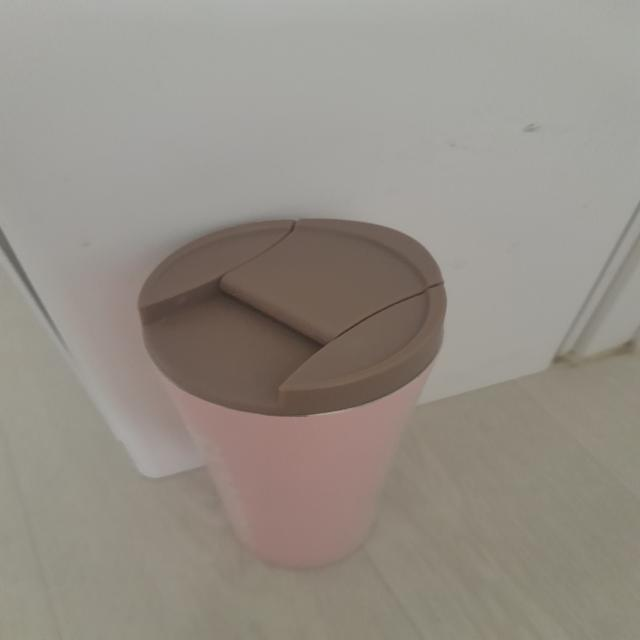waterbottle: (137, 218, 449, 568)
